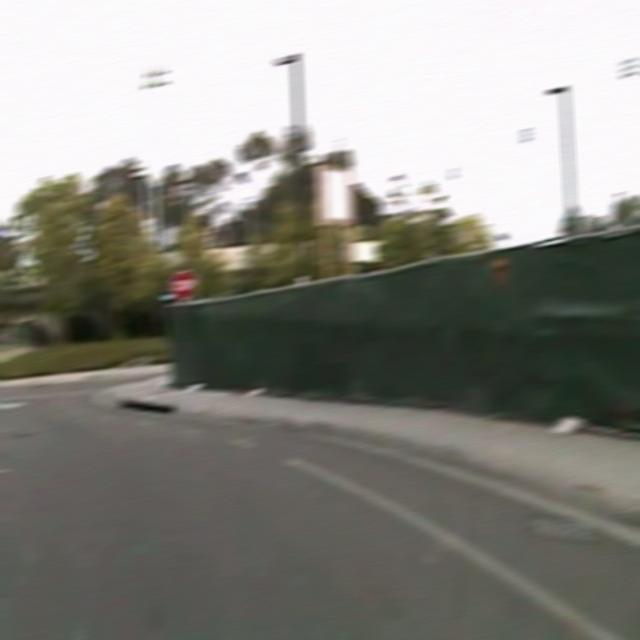stop_sign: (170, 268, 196, 300)
